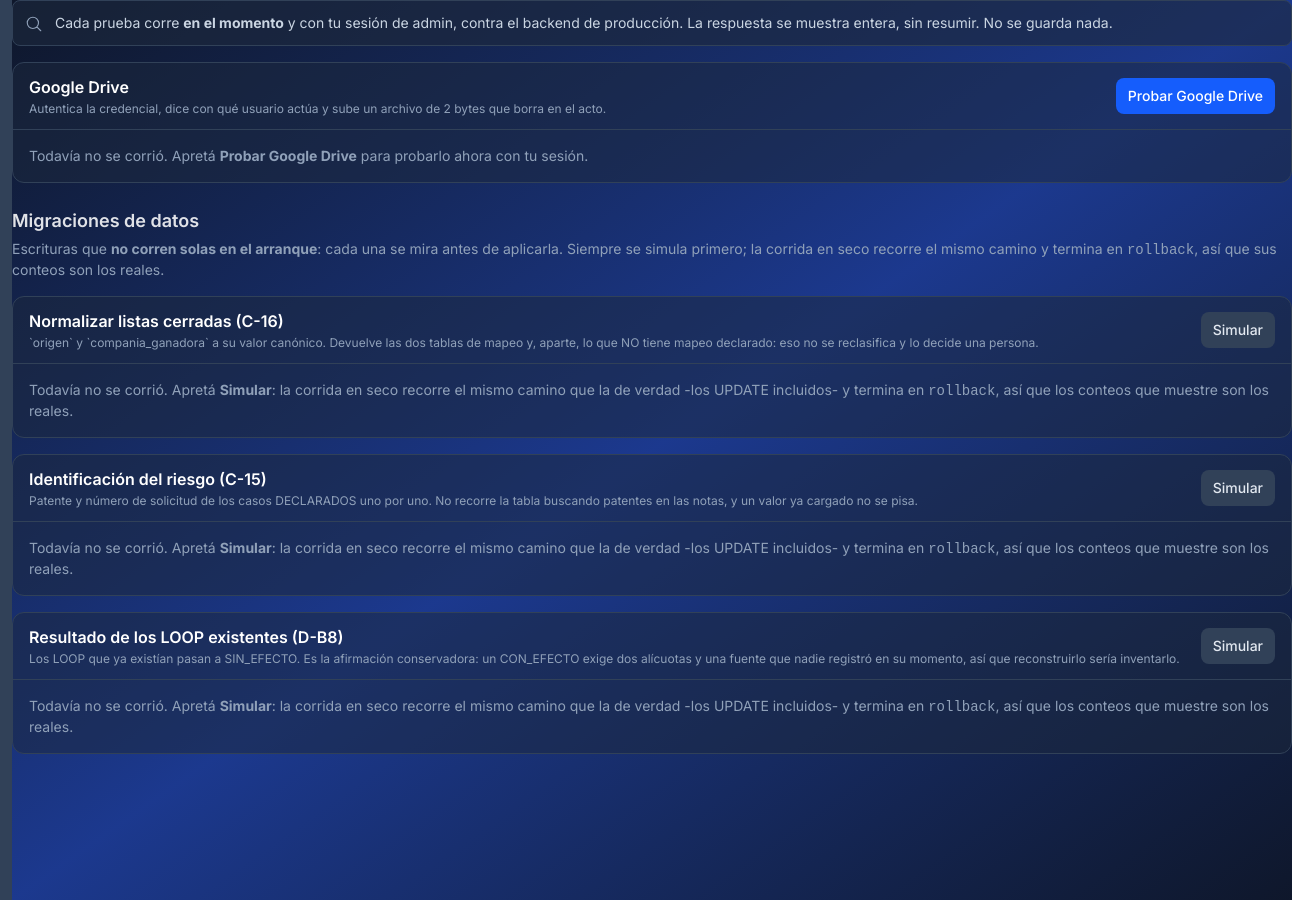
Test: diagnóstico de Google Drive › un 403 del pedido se muestra como fallo del diagnóstico, no como "Drive anda mal"
Click the button "Probar Google Drive" at (1195, 96), box x1=1116 y1=78 x2=1275 y2=114
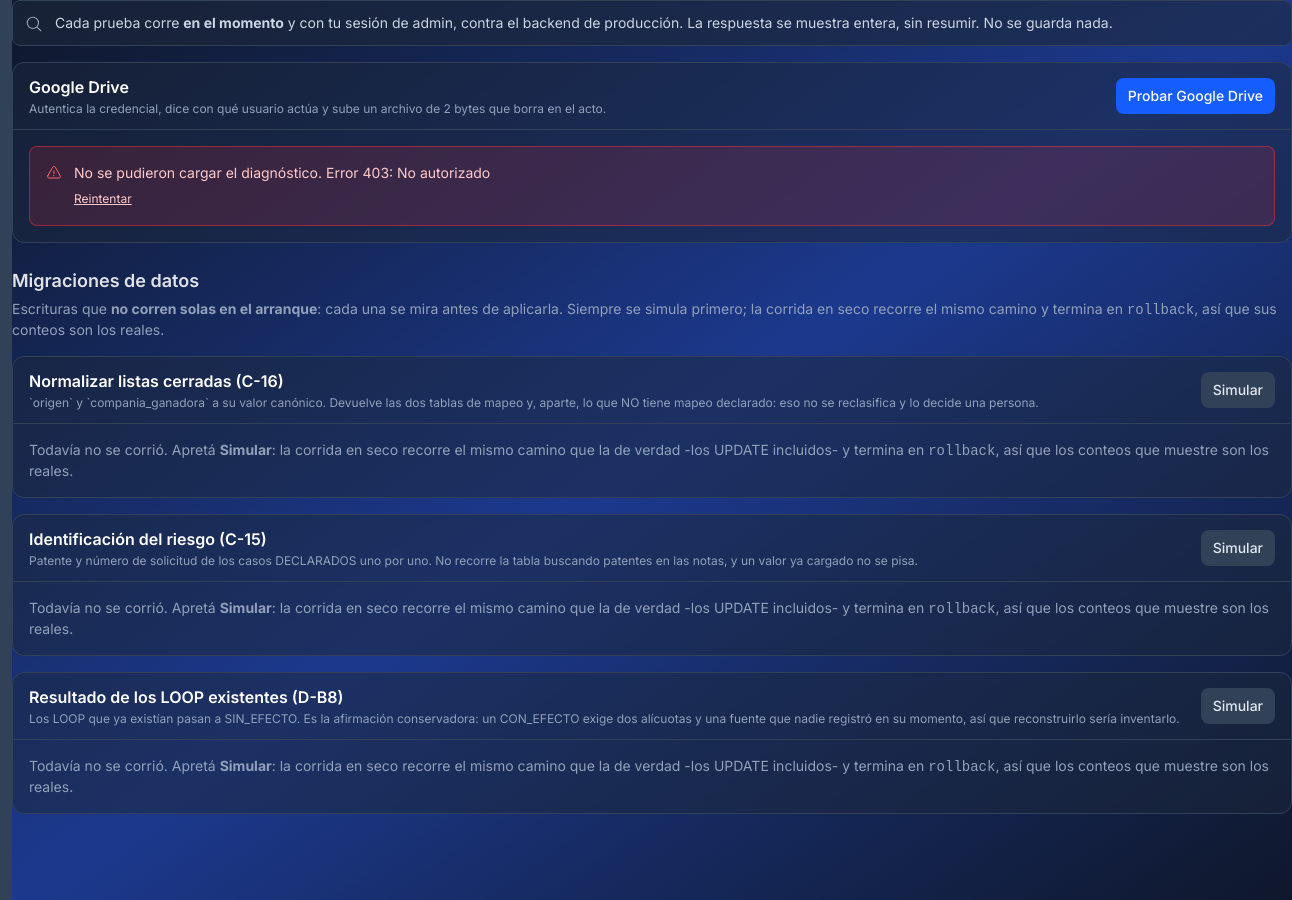
Result: the message shows "Error 403" at x1=326 y1=164 x2=490 y2=181
